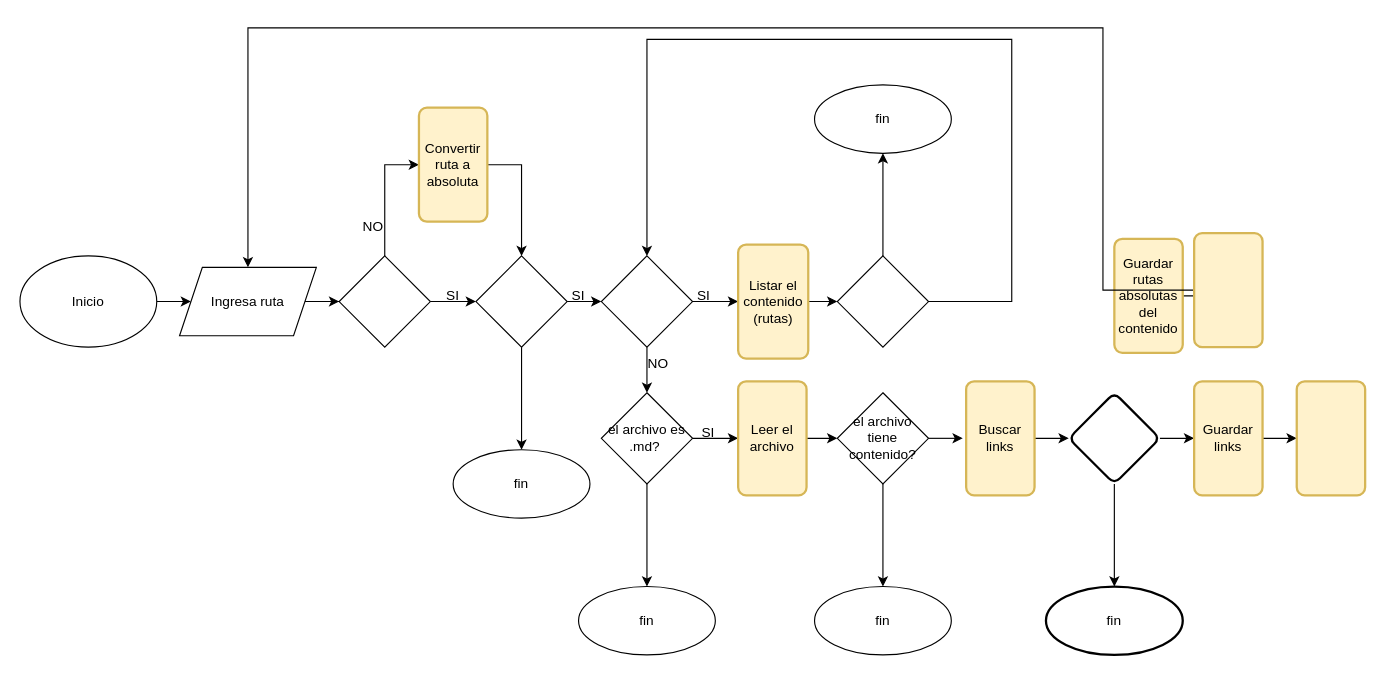
Image size: 1386x676. Some labels were removed from this diagram. The shapes that lost their labels are listed below. From the top down, each one's box as (x1, y1, x2, y2) in pixels, then its label:
(338, 255, 430, 347): la ruta es absoluta ?
(475, 255, 567, 347): la ruta existe?
(600, 255, 693, 347): la ruta es de un directorio?
(836, 255, 929, 347): el directorio tiene contenido ?
(1192, 231, 1263, 348): Recorrer rutas absolutas
(1067, 391, 1161, 484): tiene links?
(1295, 380, 1366, 496): Recorrer links y verificarlos
